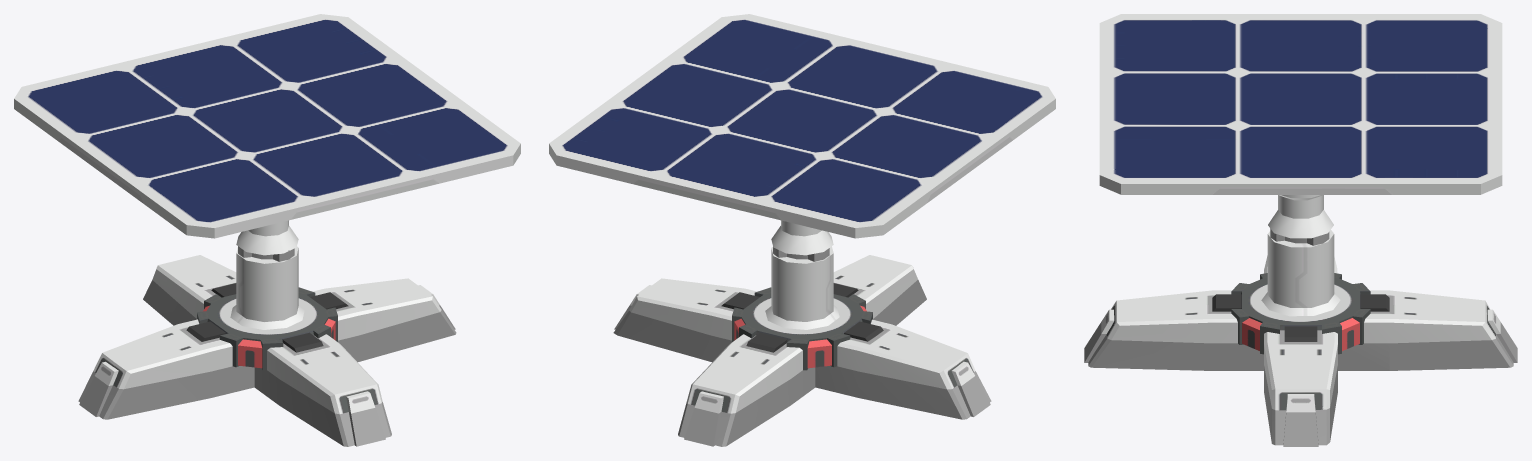
Rendered from solar-panel.glb.
3 views of the same model, side by side, from view 1: azimuth 30°, elevation 25°; view 2: azimuth 150°, elevation 25°; view 3: azimuth 270°, elevation 25° (orthographic). The views are drawn at different scales.
Parts seen in each view (by area): view 1: solar-panel-3, solar-panel-0, solar-panel-2; view 2: solar-panel-3, solar-panel-0, solar-panel-2; view 3: solar-panel-3, solar-panel-0, solar-panel-2.
Boxes of the visible parts, <box> form: solar-panel-3: <box>14,14,520,238</box>; solar-panel-0: <box>78,246,456,446</box>; solar-panel-2: <box>236,220,298,255</box>; solar-panel-3: <box>549,14,1055,238</box>; solar-panel-0: <box>613,246,991,446</box>; solar-panel-2: <box>771,220,833,255</box>; solar-panel-3: <box>1099,14,1502,194</box>; solar-panel-0: <box>1084,229,1517,446</box>; solar-panel-2: <box>1268,195,1333,238</box>.
Bounding box in the file's own units: 3.55 × 2.32 × 3.55.
Materials: 1 (1 with a texture image).
